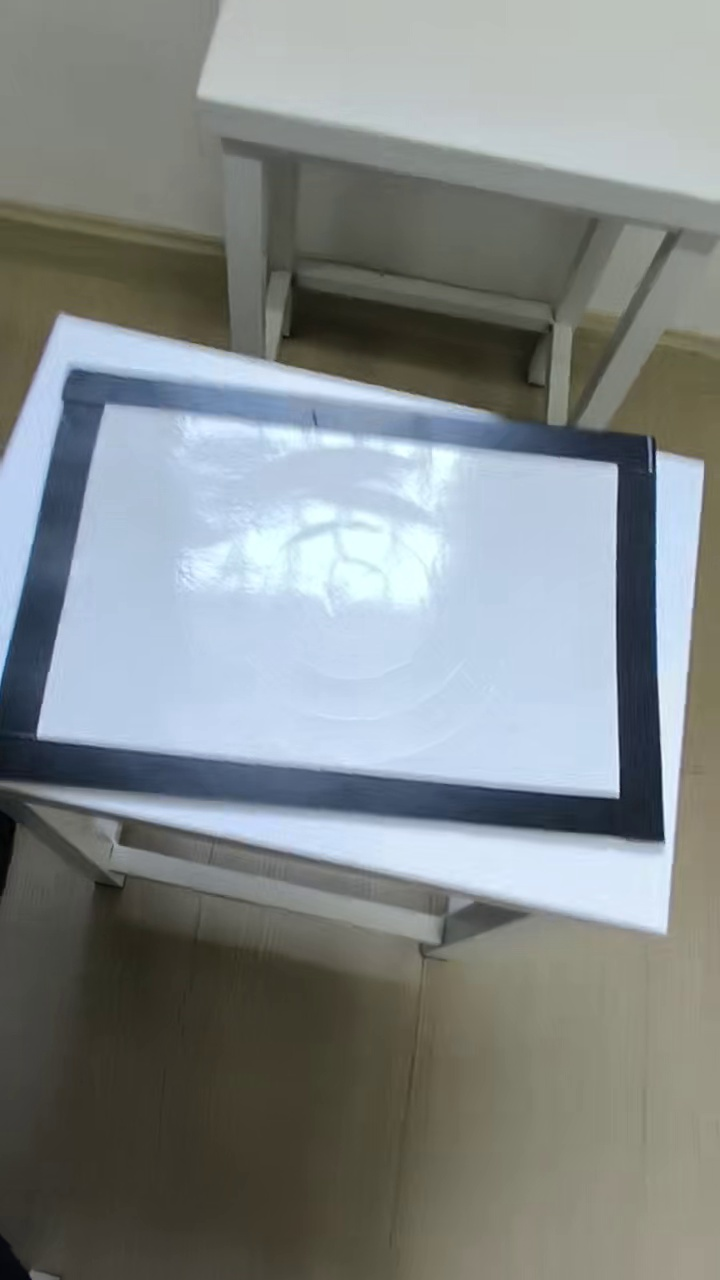board: (12, 366, 662, 838)
